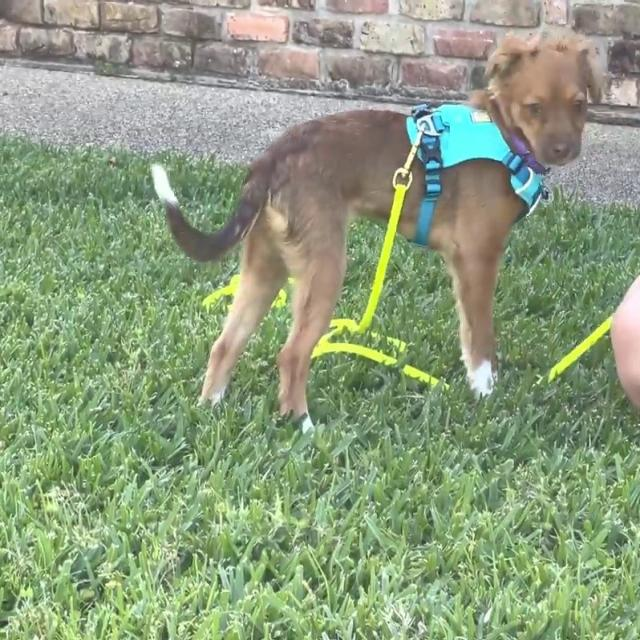Dog: (149, 34, 606, 442)
